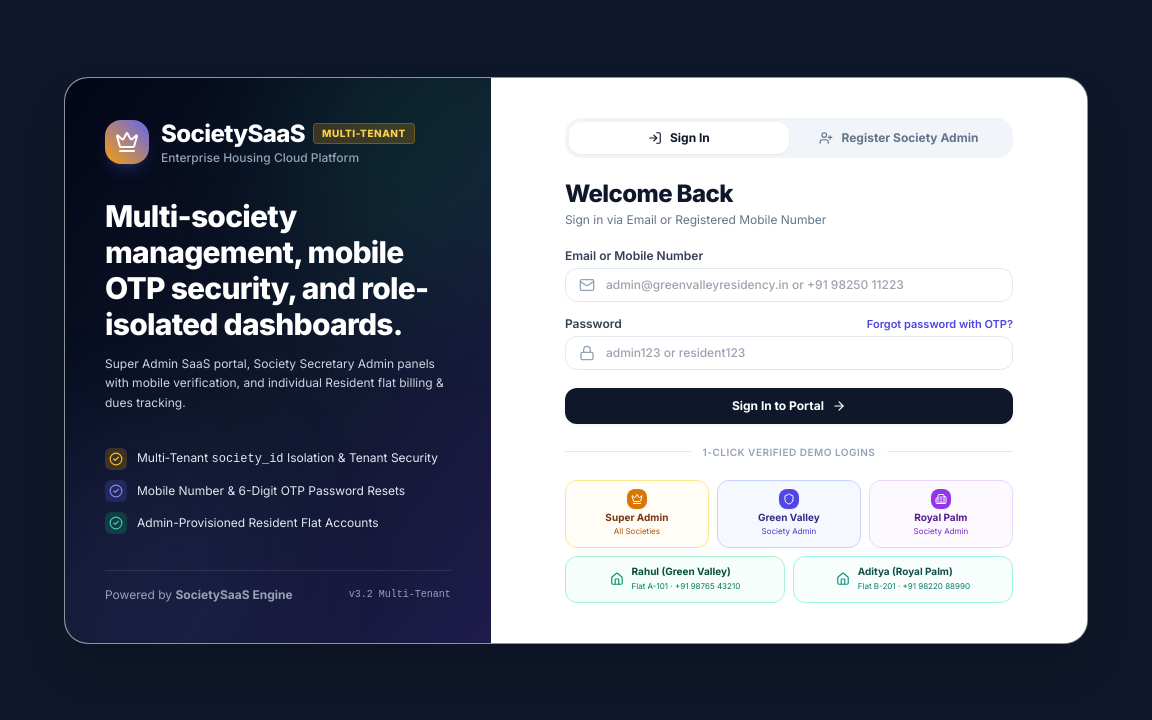
Test case: LoginPage › opens and closes forgot password modal
The image size is (1152, 720).
Click the button "Forgot password with OTP?".
click(940, 324)  # box [867,316,1013,332]
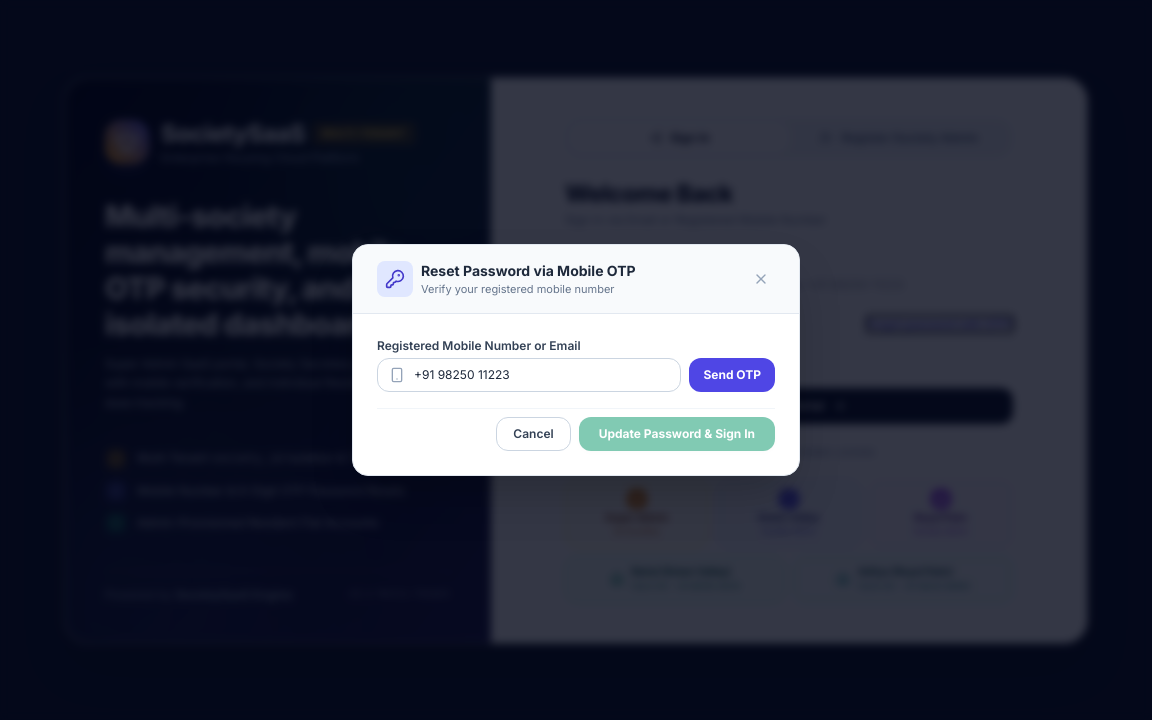
Expected: the heading "Reset Password via Mobile OTP" is shown, [421,261,636,281]
Click the button "Cancel".
click(534, 434)  # box [496,417,571,451]
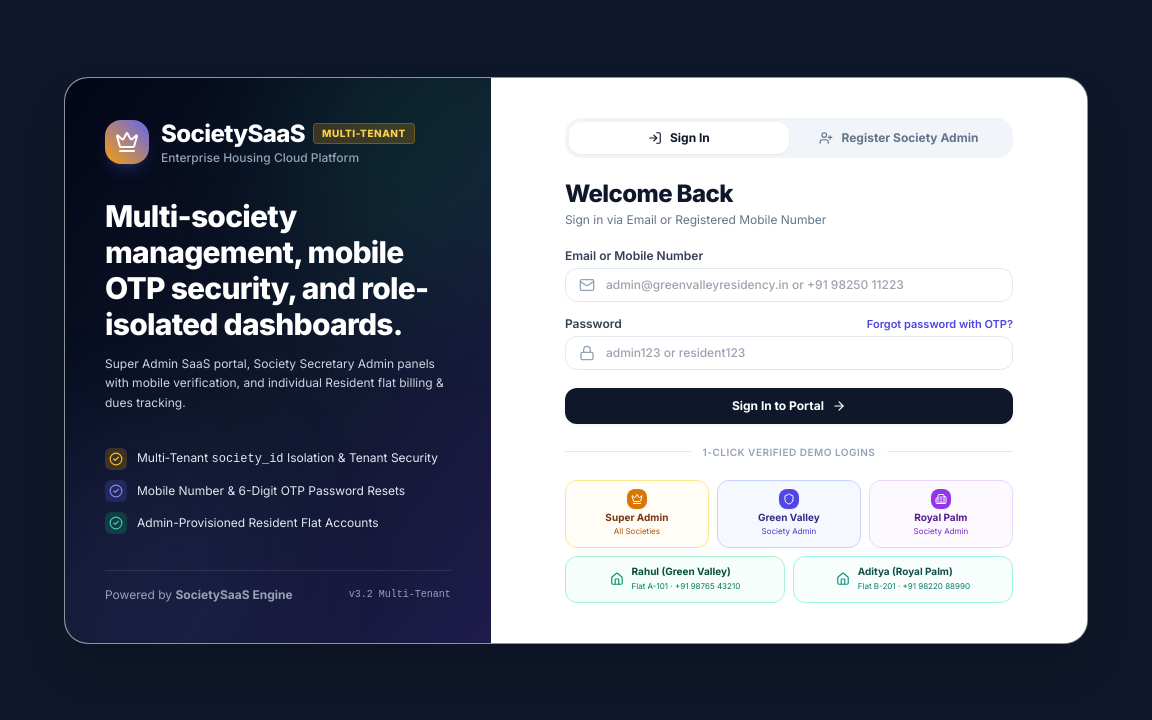
Expected: the heading "Reset Password via Mobile OTP" is gone
